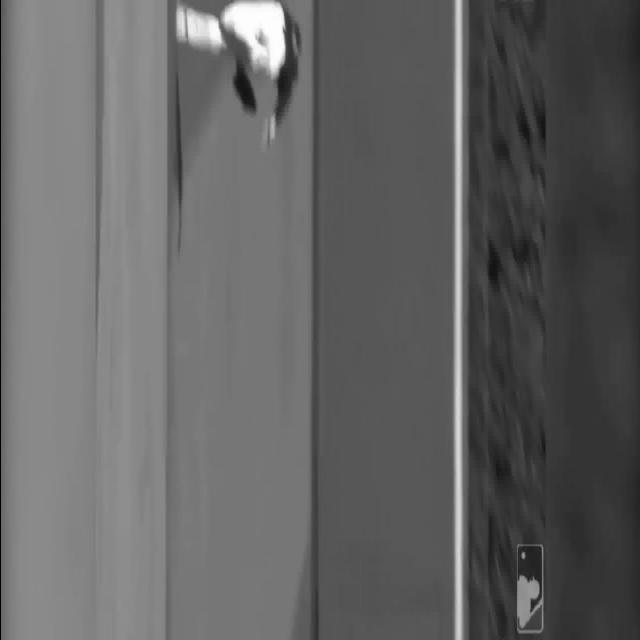baseball_glove: (259, 114, 276, 148)
shoe: (232, 72, 256, 114)
